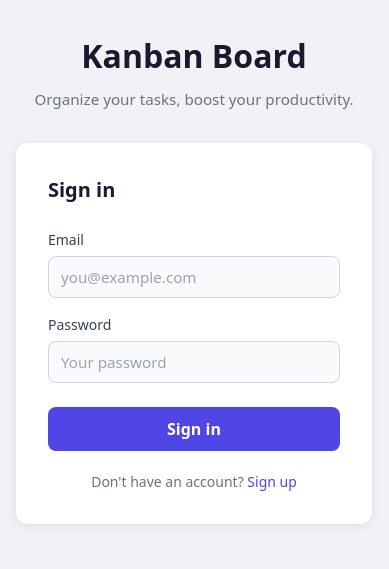
LoginPage › shows error when submitting empty fields
This screenshot has width=389, height=569.
Click the button "Sign in" at (194, 429), box [48,407,340,451]
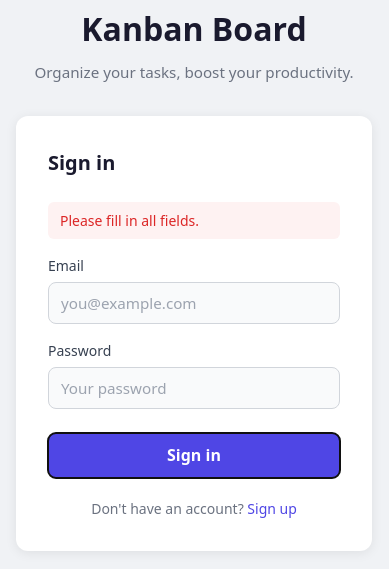
Now the text "Please fill in all fields." is shown, box [48,202,340,239]
